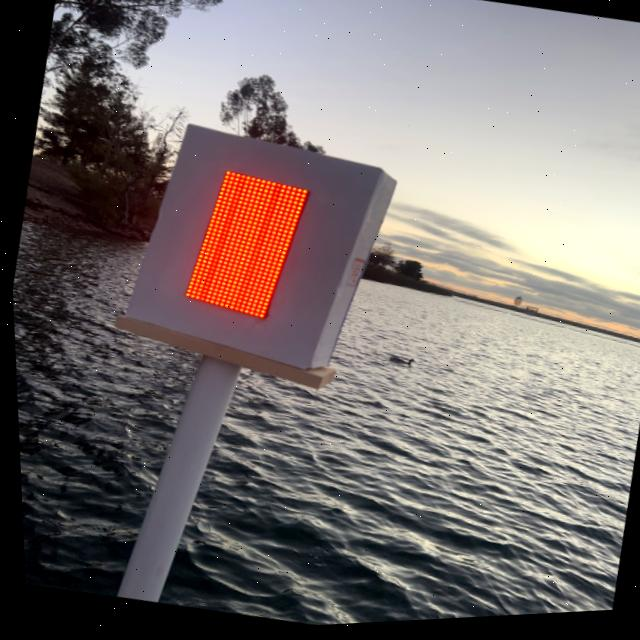led: (160, 131, 336, 358)
